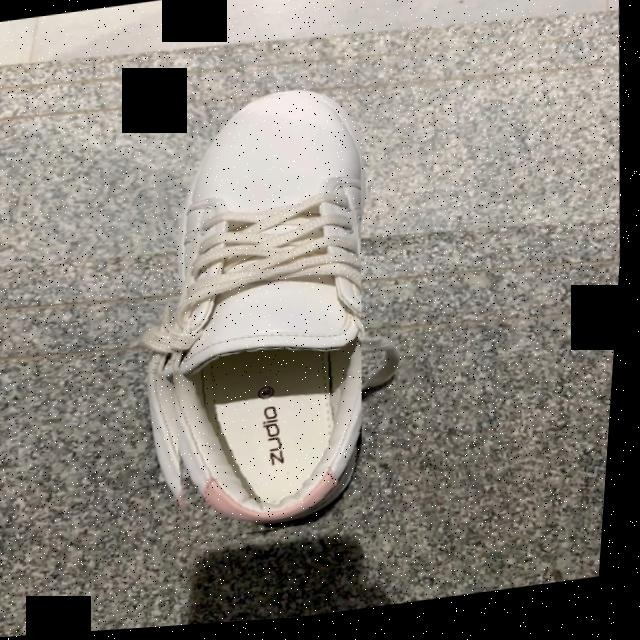shoe: (179, 93, 367, 533)
